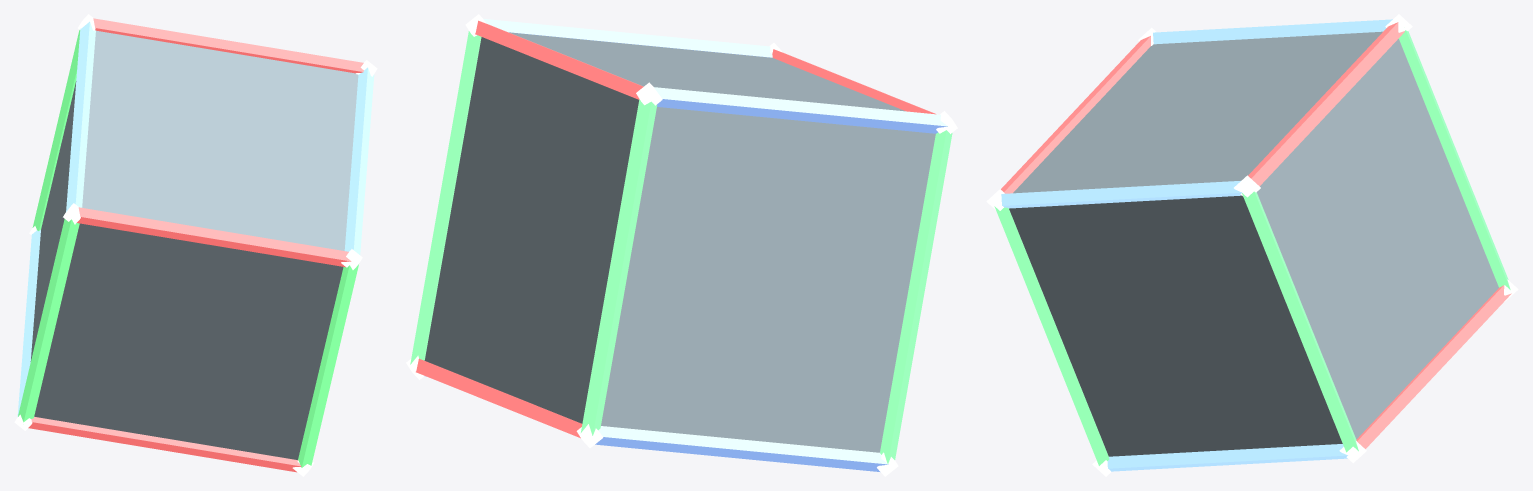
The model's file is tesstill.glb.
3 renders of one model, left to right at view 1: azimuth 30°, elevation 25°; view 2: azimuth 150°, elevation 25°; view 3: azimuth 270°, elevation 25°, orthographic. The views are drawn at different scales.
Visible parts, largest first — view 1: glass_faces_24, edge_31_X, edge_28_X, edge_25_X, edge_29_Y, edge_30_Y, edge_27_Z, edge_26_Z, edge_21_Y, edge_22_Z; view 2: glass_faces_24, edge_21_Y, edge_26_Z, edge_22_Z, edge_29_Y, edge_23_Y, edge_27_Z, edge_25_X, edge_20_X, edge_31_X; view 3: glass_faces_24, edge_23_Y, edge_24_Z, edge_27_Z, edge_30_Y, edge_25_X, edge_21_Y, edge_26_Z, edge_20_X, edge_31_X.
Part boxes in pixels (box(x1,y1,x2,y2)): glass_faces_24: box(30, 30, 358, 459); edge_31_X: box(77, 207, 351, 267); edge_28_X: box(28, 416, 301, 472); edge_25_X: box(93, 18, 363, 73); edge_29_Y: box(18, 219, 79, 422); edge_30_Y: box(298, 264, 358, 467); edge_27_Z: box(344, 67, 374, 254); edge_26_Z: box(66, 21, 95, 211); edge_21_Y: box(32, 30, 80, 230); edge_22_Z: box(17, 230, 40, 416); glass_faces_24: box(424, 32, 935, 452); edge_21_Y: box(581, 99, 657, 435); edge_26_Z: box(653, 87, 947, 133); edge_22_Z: box(595, 426, 888, 471); edge_29_Y: box(880, 130, 952, 463); edge_23_Y: box(410, 31, 481, 364); edge_27_Z: box(483, 18, 772, 57); edge_25_X: box(475, 20, 643, 99); edge_20_X: box(416, 358, 582, 438); edge_31_X: box(772, 49, 936, 114); glass_faces_24: box(1009, 31, 1498, 456); edge_23_Y: box(1242, 191, 1358, 452); edge_24_Z: box(1107, 444, 1347, 471); edge_27_Z: box(1001, 181, 1241, 208); edge_30_Y: box(994, 206, 1109, 465); edge_25_X: box(1248, 22, 1404, 186); edge_21_Y: box(1398, 30, 1510, 289); edge_26_Z: box(1153, 19, 1392, 44); edge_20_X: box(1356, 285, 1511, 448); edge_31_X: box(1001, 36, 1150, 193).
Bounding box in the file's own units: 2.2 × 2.25 × 2.59.
